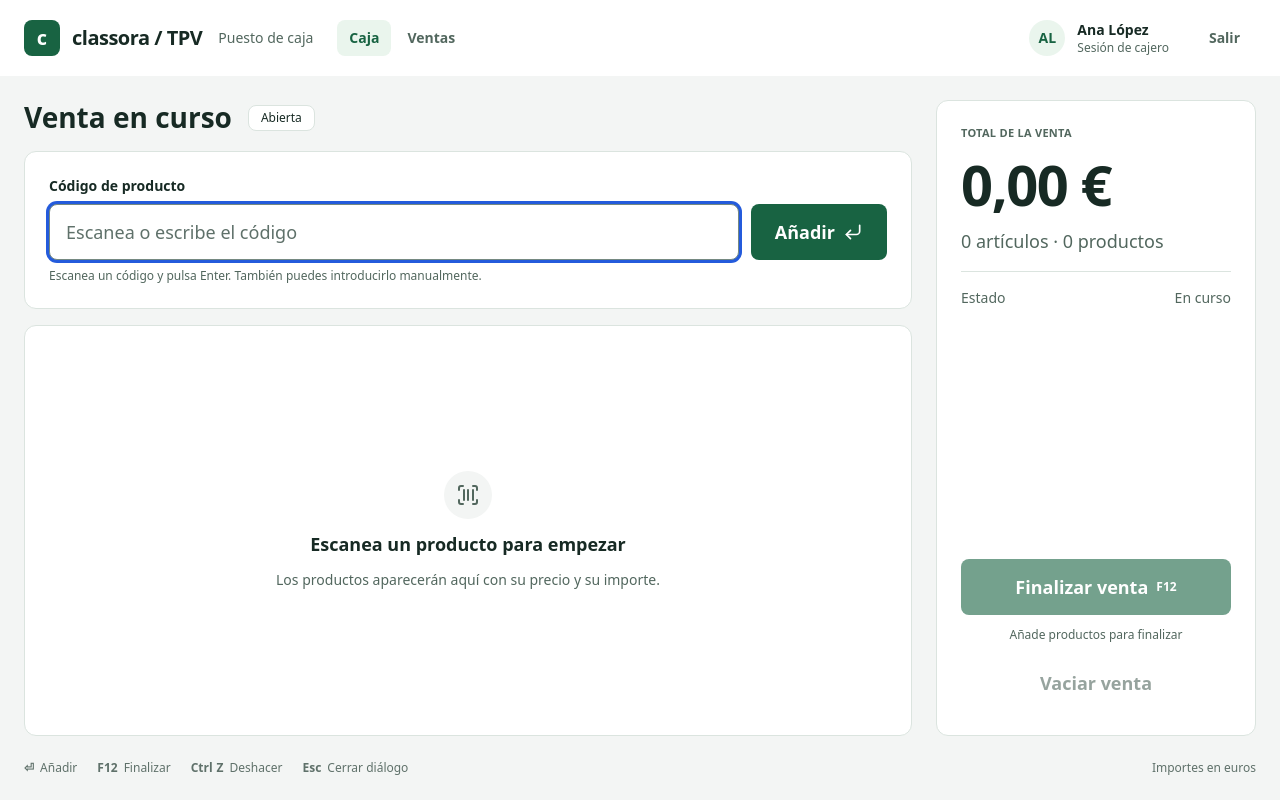
Test: Checkout: Screen Integration › I-05: should show an inline error for an unknown code and keep the sale intact
Type "0000" into the field labelled "Código de producto" at (394, 232), box [49,204,739,260]
Then press Enter
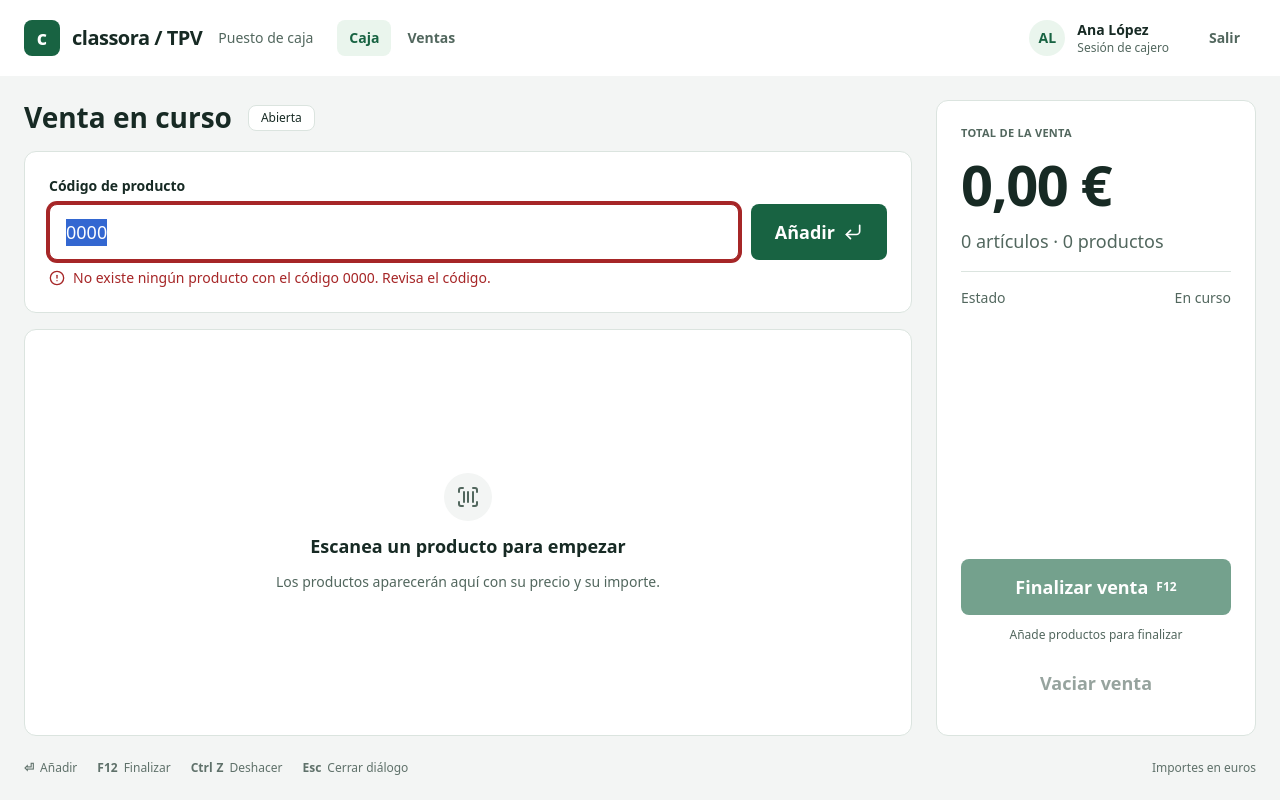
Expected: the text "Escanea un producto para empezar" is shown, [310,533,626,560]
Now the message reads "No existe ningún producto con el código 0000. Revisa el código.", box [73,268,491,287]
